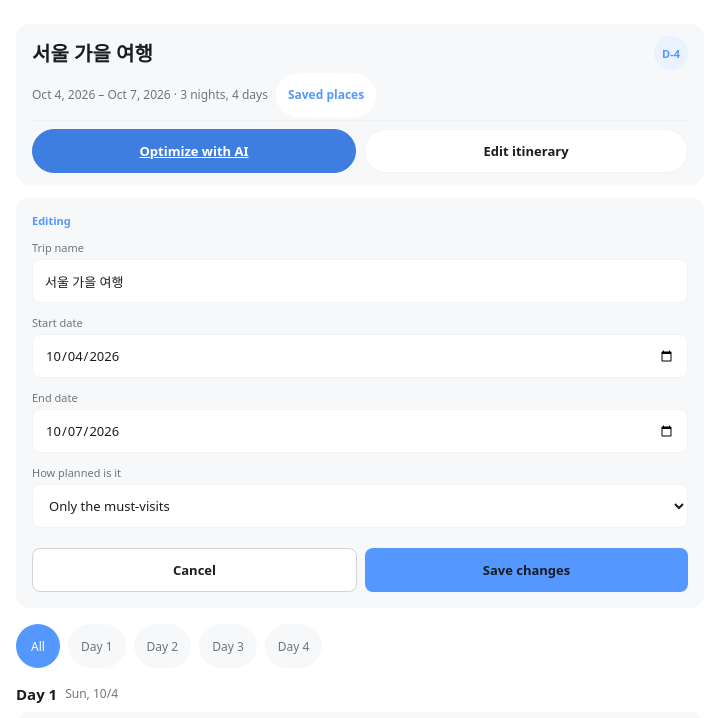
Test: FE-306-T1 the preview advises and never blocks › leaves the save enabled while stops are outside the range
Expected: the field labelled "Trip name" is shown, 32,259 -> 688,303
Step 1. Type "2026-10-05" into the date field labelled "Start date" → (360, 356), box 32,334 -> 688,378
(page scrolled)
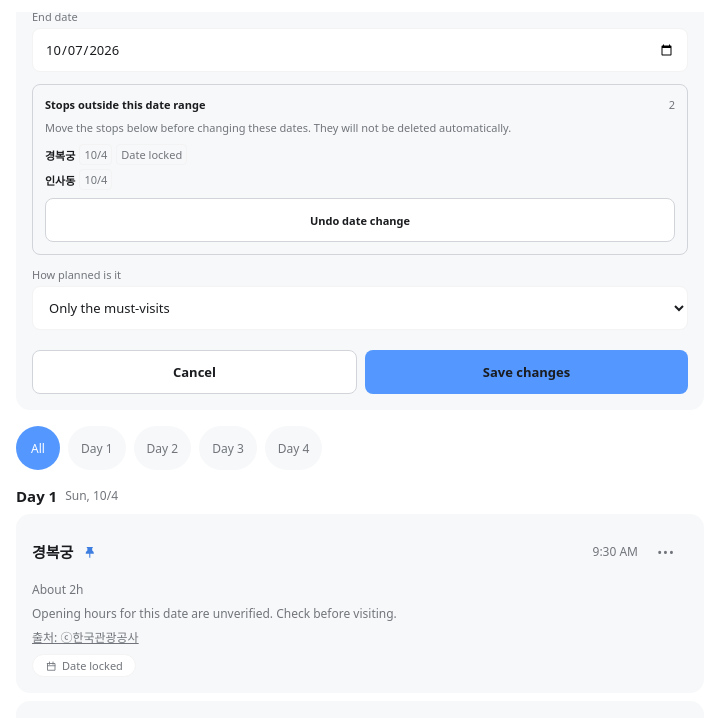
Expected: the button "Save changes" is enabled, 365,350 -> 688,394
Result: the text "Stops outside this date range" is shown at 45,97 -> 205,112
